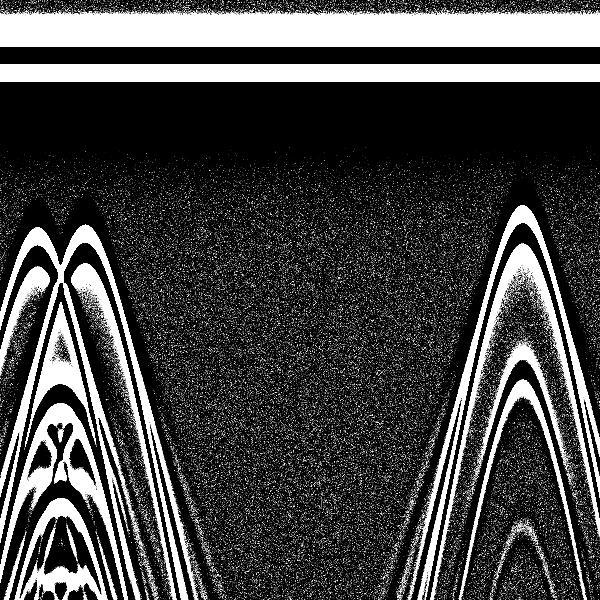pipe: (37, 3, 137, 323), (468, 5, 569, 296), (1, 5, 81, 317)
